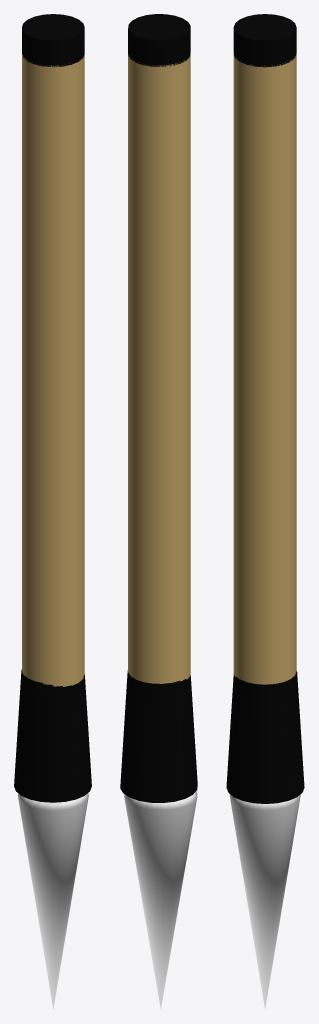
Rendered from brush.fbx.
3 renders of one model, left to right at view 1: azimuth 90°, elevation 25°; view 2: azimuth 150°, elevation 25°; view 3: azimuth 270°, elevation 25°, orthographic.
Visible parts, largest first — view 1: polySurface3, polySurface4, polySurface2, polySurface1; view 2: polySurface3, polySurface4, polySurface2, polySurface1; view 3: polySurface3, polySurface4, polySurface2, polySurface1.
Part boxes in pixels (box(x1,y1,x2,y2)): polySurface3: box(22, 54, 84, 686); polySurface4: box(14, 669, 91, 802); polySurface2: box(17, 793, 88, 1008); polySurface1: box(22, 14, 84, 67); polySurface3: box(128, 53, 190, 683); polySurface4: box(120, 670, 197, 802); polySurface2: box(124, 791, 197, 1009); polySurface1: box(128, 14, 190, 66); polySurface3: box(233, 53, 296, 684); polySurface4: box(226, 671, 304, 803); polySurface2: box(229, 794, 300, 1009); polySurface1: box(233, 14, 296, 67).
Bounding box in the file's own units: 1.03 × 14.27 × 1.03.
